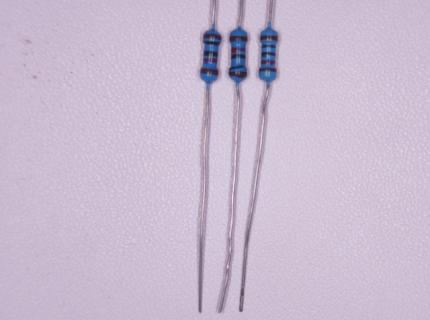Black band: (203, 41, 220, 46), (204, 51, 218, 57), (229, 65, 245, 70), (231, 54, 245, 59), (261, 52, 276, 56), (261, 45, 276, 48)
Brown band: (200, 68, 218, 76), (203, 34, 221, 40), (229, 72, 247, 78), (260, 35, 278, 41), (230, 36, 248, 41), (259, 68, 276, 72)
Red band: (203, 58, 217, 63), (231, 48, 245, 53), (261, 60, 275, 65)
